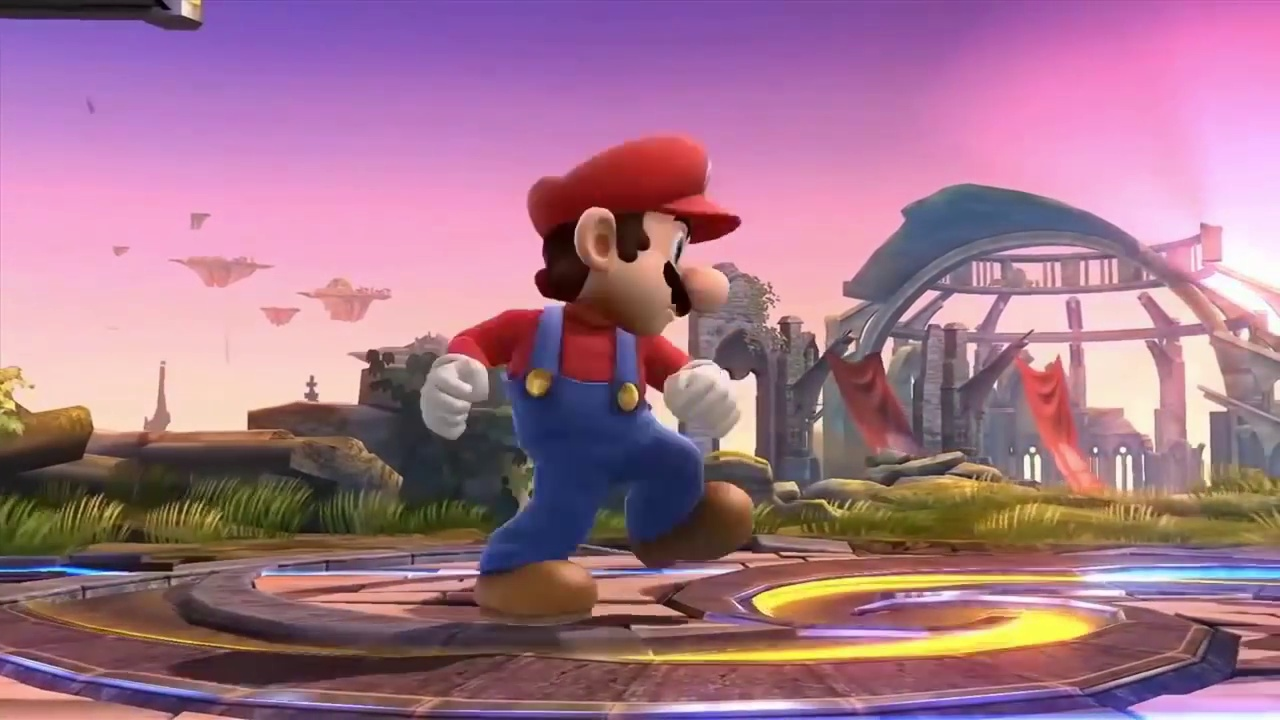Mario: (418, 131, 755, 623)
